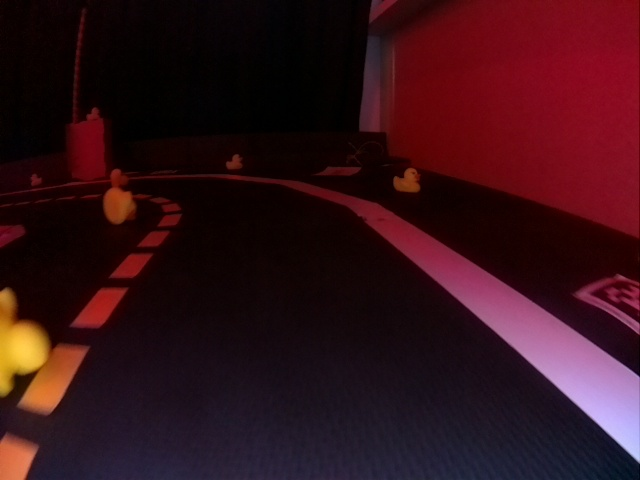Duckie: (0, 288, 48, 394), (103, 188, 137, 225), (393, 168, 420, 193), (227, 153, 242, 169)
QR code: (578, 273, 639, 335)
